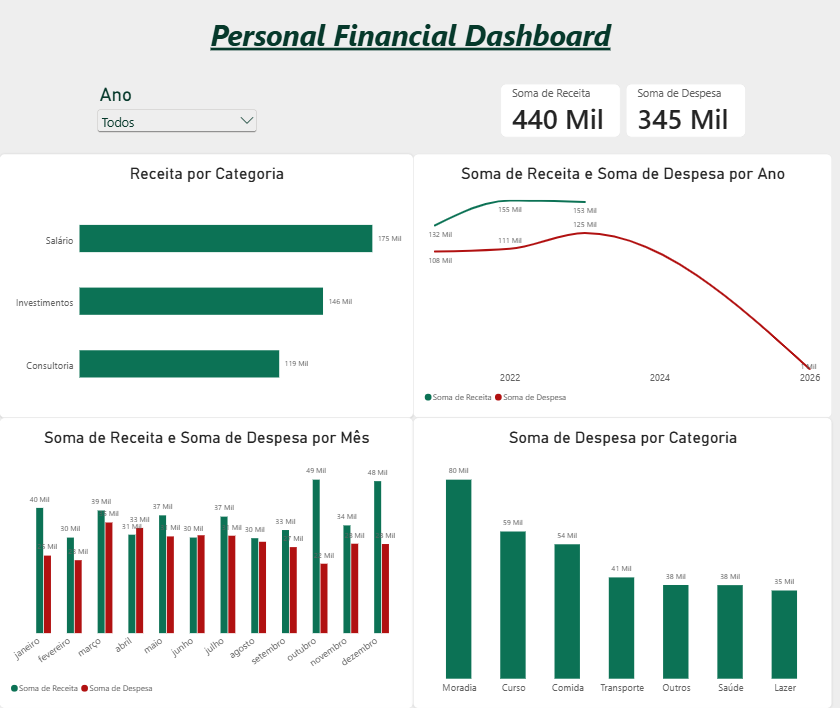

The page's visual inventory and layout, read from the dashboard file:
{"tool":"powerbi","page":{"name":"Finanças João","canvas":[1920,1080],"ordinal":0},"visuals":[{"type":"clusteredBarChart","title":"Receita por Categoria","fields":{"Category":["FinançasPessoais.Categoria"],"Y":["Sum(FinançasPessoais.Receita)"]},"box":[1.8,251.3,618.1,394.4],"z":0},{"type":"lineChart","fields":{"Category":["FinançasPessoais.Data.Variation.Hierarquia de datas.Ano"],"Y":["Sum(FinançasPessoais.Receita)","Sum(FinançasPessoais.Despesa)"]},"box":[620,251.3,625.5,394.4],"z":1},{"type":"clusteredColumnChart","fields":{"Category":["FinançasPessoais.Data.Variation.Hierarquia de datas.Mês"],"Y":["Sum(FinançasPessoais.Receita)","Sum(FinançasPessoais.Despesa)"]},"box":[1.8,645.7,618.1,434.7],"z":2},{"type":"clusteredColumnChart","fields":{"Category":["FinançasPessoais.Categoria"],"Y":["Sum(FinançasPessoais.Despesa)"]},"box":[620,645.7,625.5,434.7],"z":3},{"type":"cardVisual","fields":{"Data":["Sum(FinançasPessoais.Receita)","Sum(FinançasPessoais.Despesa)"]},"box":[750.2,146.7,366.8,80.7],"z":4},{"type":"slicer","fields":{"Values":["FinançasPessoais.Data.Variation.Hierarquia de datas.Ano"]},"box":[143.1,146.7,247.6,80.7],"z":5},{"type":"textbox","box":[317.2,44.8,602.7,63.4],"z":6}]}

Visuals, with their boxes on the page's 1920x1080 design canvas (x1, y1, x2, y2). These are canvas units, not pixel positions in the 840x708 screenshot, which may show the page scaled, cropped or inside an application window:
"Receita por Categoria" clusteredBarChart: (x1=2, y1=251, x2=620, y2=646)
lineChart - FinançasPessoais.Data.Variation.Hierarquia de datas.Ano x Sum(FinançasPessoais.Receita): (x1=620, y1=251, x2=1246, y2=646)
clusteredColumnChart - FinançasPessoais.Data.Variation.Hierarquia de datas.Mês x Sum(FinançasPessoais.Receita): (x1=2, y1=646, x2=620, y2=1080)
clusteredColumnChart - FinançasPessoais.Categoria x Sum(FinançasPessoais.Despesa): (x1=620, y1=646, x2=1246, y2=1080)
cardVisual - Sum(FinançasPessoais.Receita) x Sum(FinançasPessoais.Despesa): (x1=750, y1=147, x2=1117, y2=227)
slicer - FinançasPessoais.Data.Variation.Hierarquia de datas.Ano: (x1=143, y1=147, x2=391, y2=227)
textbox: (x1=317, y1=45, x2=920, y2=108)
